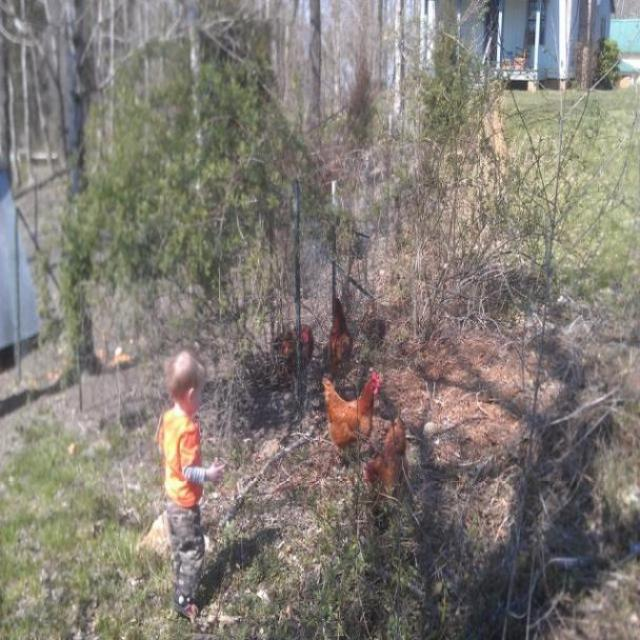Chicken: (320, 371, 385, 474), (361, 413, 412, 515), (266, 323, 318, 380), (326, 288, 357, 383)
